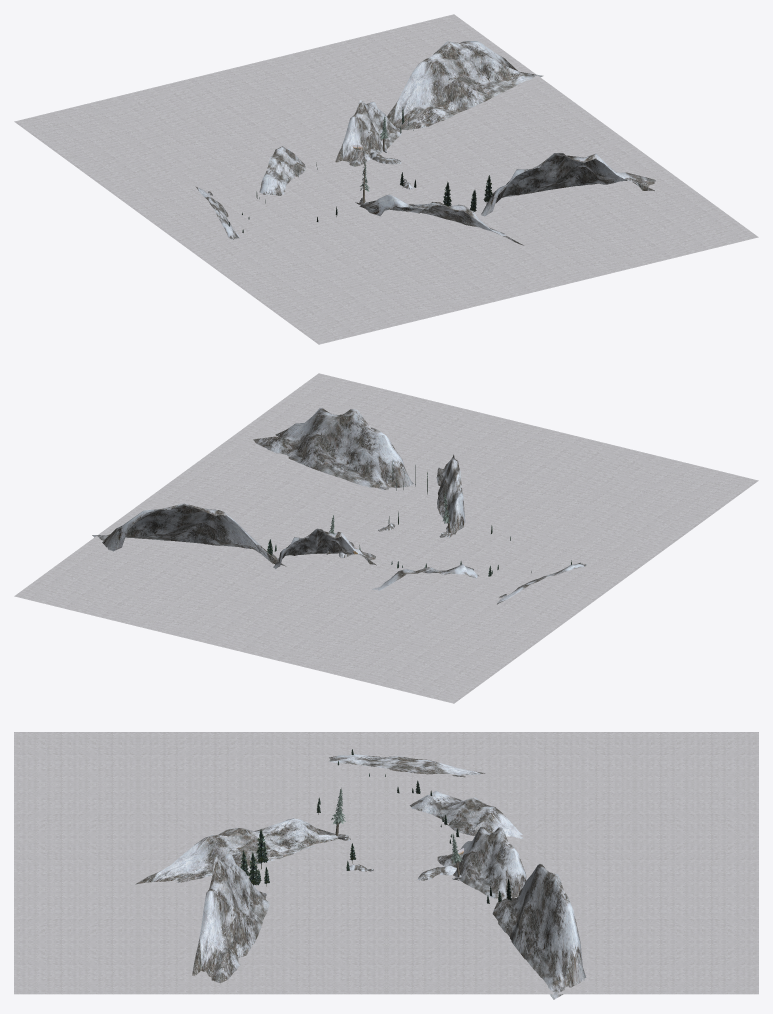
3 views of the same model, one above another, from view 1: azimuth 30°, elevation 25°; view 2: azimuth 150°, elevation 25°; view 3: azimuth 270°, elevation 25° (orthographic). The views are drawn at different scales.
Parts seen in each view (by area): view 1: polySurface151, pPlane3, pPlane1, pPlane2, pPlane4, pPlane8; view 2: polySurface151, pPlane1, pPlane3, pPlane4, pPlane2, pPlane8; view 3: polySurface151, pPlane3, pPlane1, pPlane4, pPlane2, pPlane8, pPlane10.
Part boxes in pixels (left/top/right/bottom): polySurface151: left=14, top=14, right=758, bottom=344; pPlane3: left=386, top=41, right=543, bottom=130; pPlane1: left=481, top=153, right=655, bottom=216; pPlane2: left=335, top=100, right=401, bottom=166; pPlane4: left=355, top=194, right=523, bottom=245; pPlane8: left=259, top=146, right=305, bottom=195; polySurface151: left=14, top=373, right=758, bottom=703; pPlane1: left=253, top=408, right=413, bottom=489; pPlane3: left=92, top=503, right=286, bottom=566; pPlane4: left=436, top=454, right=465, bottom=538; pPlane2: left=273, top=528, right=376, bottom=568; pPlane8: left=372, top=564, right=478, bottom=590; polySurface151: left=14, top=732, right=758, bottom=994; pPlane3: left=492, top=864, right=586, bottom=999; pPlane1: left=192, top=853, right=269, bottom=983; pPlane4: left=135, top=818, right=347, bottom=884; pPlane2: left=437, top=826, right=526, bottom=899; pPlane8: left=410, top=791, right=522, bottom=838; pPlane10: left=329, top=754, right=485, bottom=777.
Size of the model in its own units: 840 by 114 by 995.
6 materials, 6 textured.
